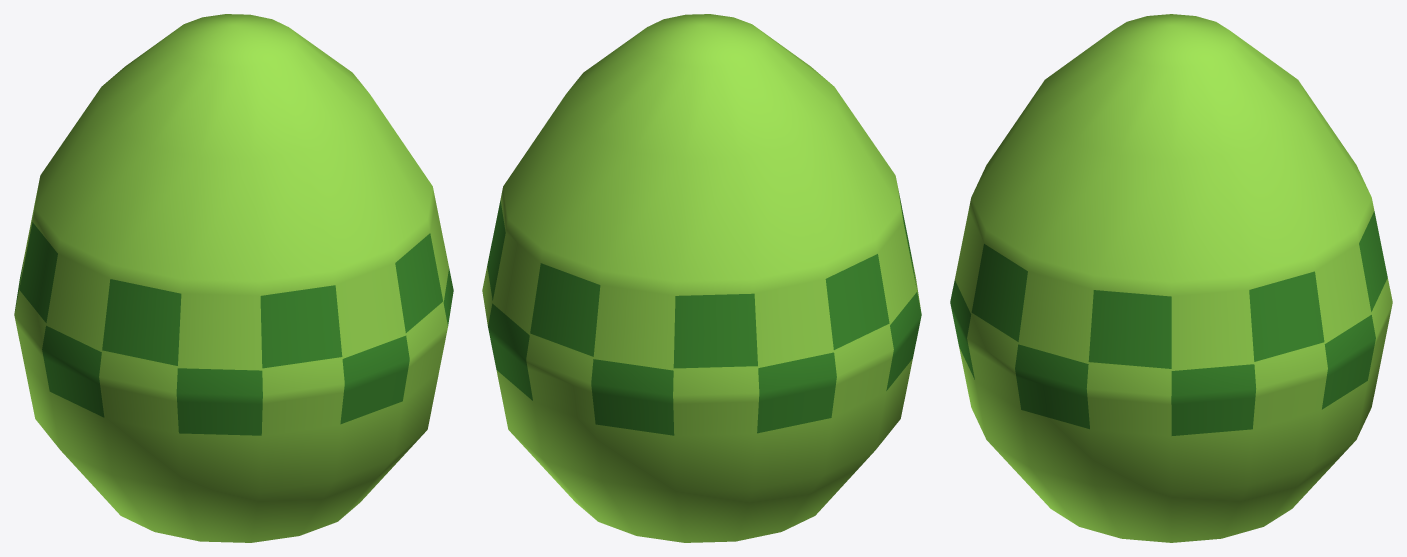
File: UncommonEgg.fbx
The picture shows the model from 3 angles, left to right: view 1: azimuth 30°, elevation 25°; view 2: azimuth 150°, elevation 25°; view 3: azimuth 270°, elevation 25°; orthographic projection.
Parts seen in each view (by area): view 1: UncommonEgg; view 2: UncommonEgg; view 3: UncommonEgg.
Part boxes in pixels (left/top/right/bottom): UncommonEgg: left=14, top=14, right=453, bottom=542; UncommonEgg: left=482, top=14, right=921, bottom=542; UncommonEgg: left=950, top=14, right=1392, bottom=542.
Bounding box in the file's own units: 2.1 × 2.5 × 2.1.
Materials: 1 (1 with a texture image).
